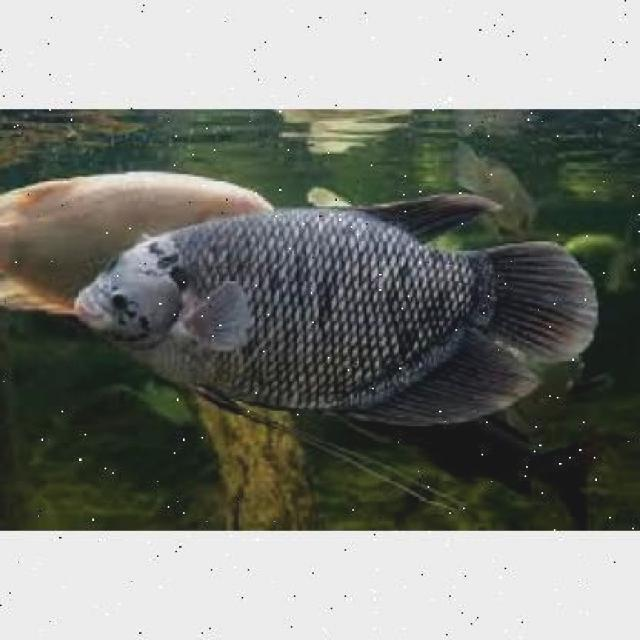gurame: (76, 198, 595, 424)
